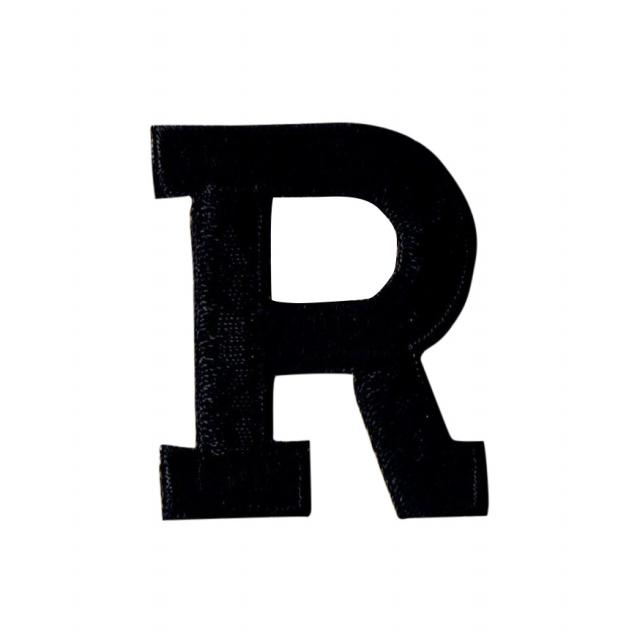R: (109, 91, 576, 582)
